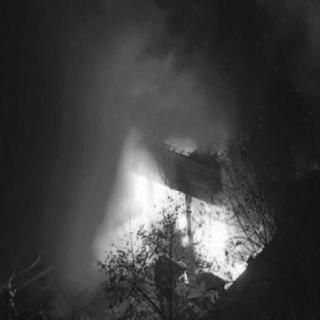Fire: (89, 181, 268, 273)
